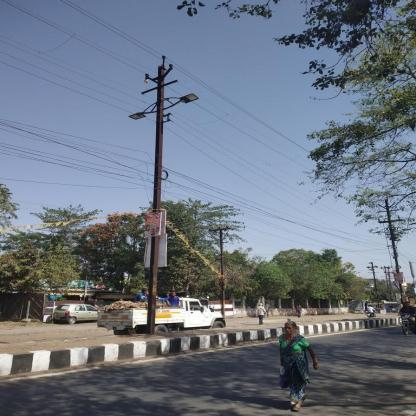Electrical Pole: (127, 52, 200, 334)
